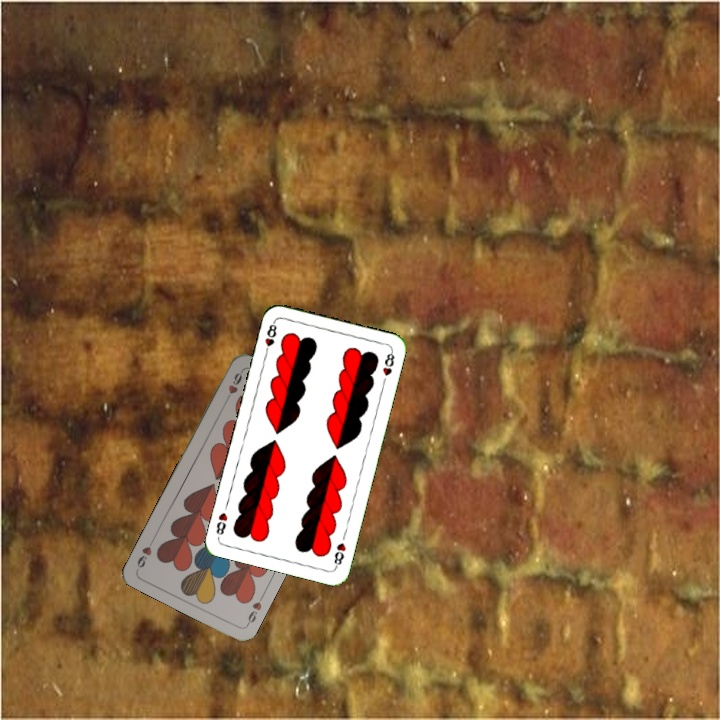H8: (261, 317, 279, 358), (330, 538, 348, 570)
H9: (221, 367, 245, 405), (243, 591, 267, 628)
